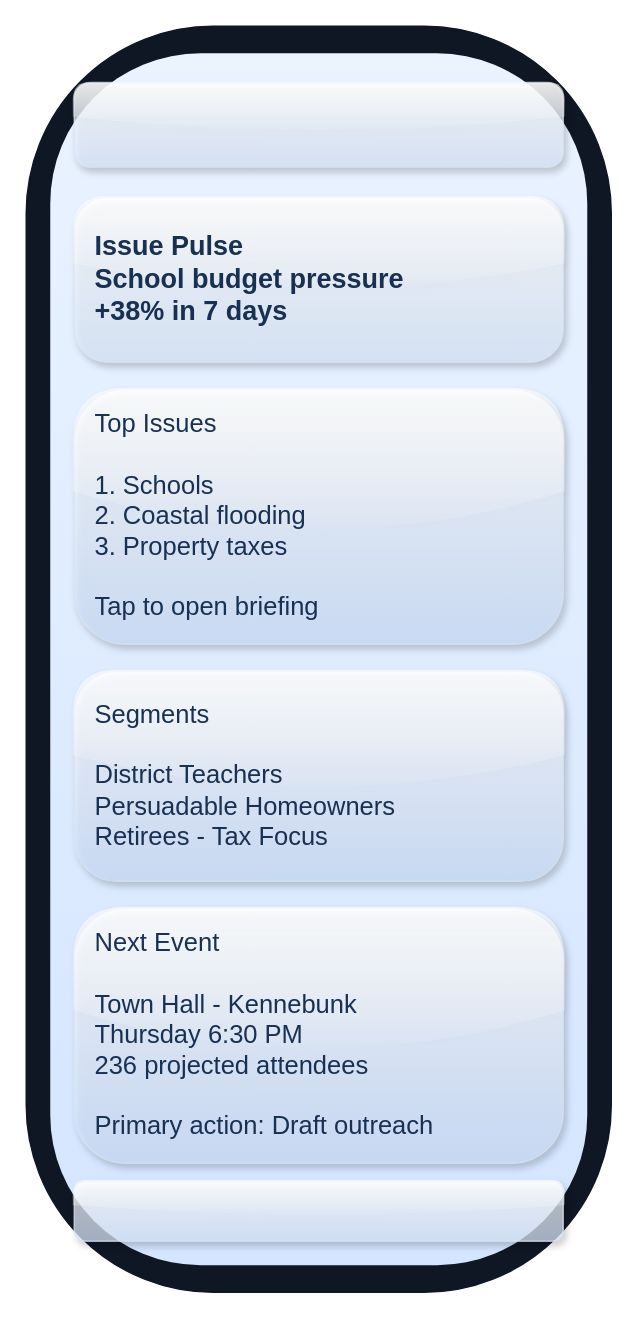
This 638x1319 diagram has some shape labels left out. The shapes that lost their labels are listed below. From the top down, each one's centre as x and y in pixels, then its label:
point 319,127: District 34
point 319,1213: Home | Briefings | Events | Drafts
